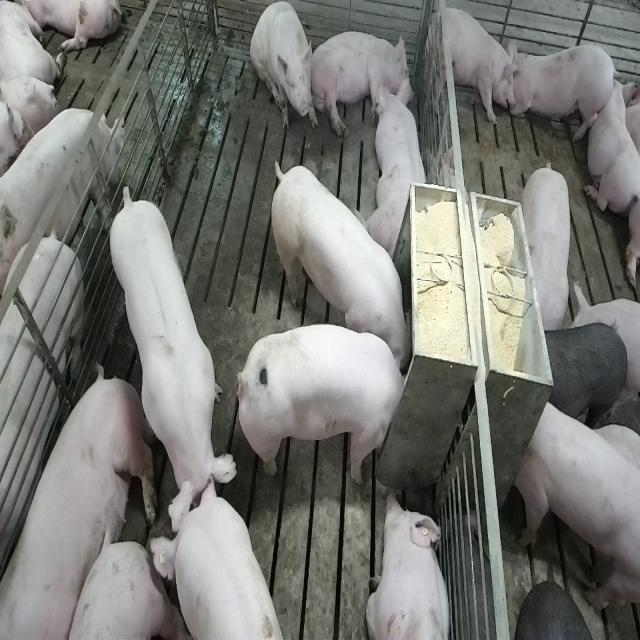Feeding: (266, 160, 411, 367), (242, 322, 416, 486)
Lateral_lying: (4, 367, 159, 640), (308, 29, 415, 139)
Sitting: (250, 3, 315, 138)
Standing: (105, 187, 232, 538), (0, 224, 87, 628), (514, 395, 638, 624), (0, 101, 123, 287), (146, 484, 282, 640), (429, 5, 518, 132), (523, 158, 575, 331), (544, 319, 628, 424)
Sternal_lying: (366, 489, 453, 640), (366, 83, 432, 263), (512, 35, 616, 140), (586, 65, 639, 217)
